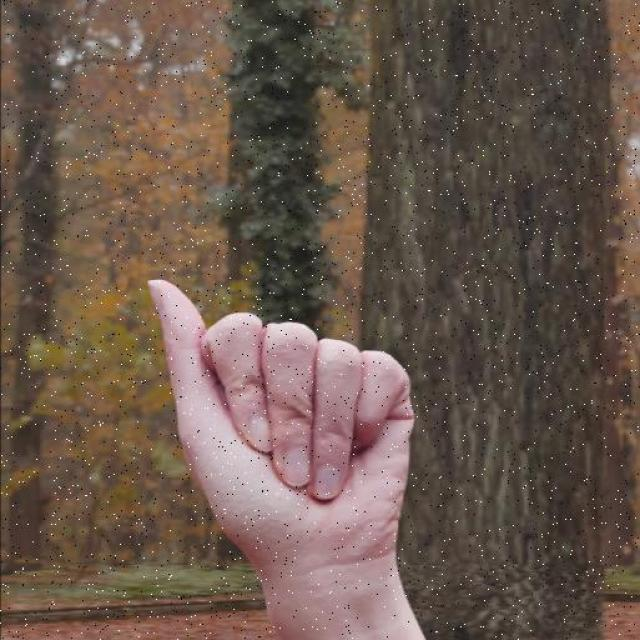A: (142, 276, 420, 592)
